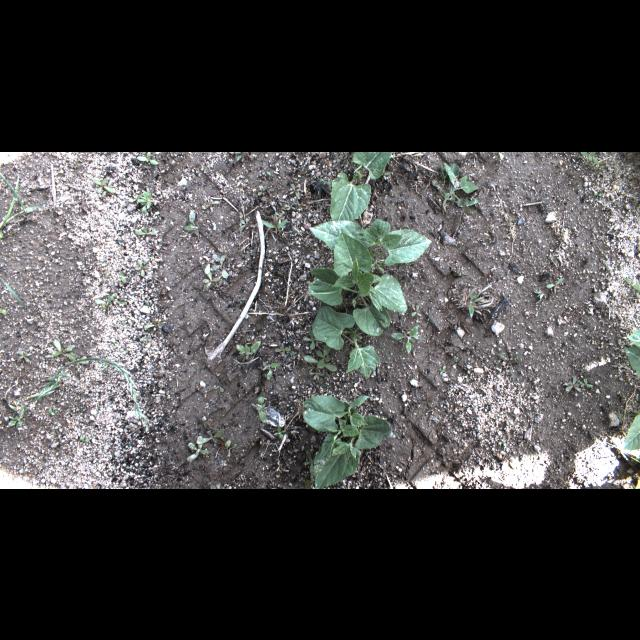crop: (303, 394, 392, 488), (310, 218, 432, 274), (308, 255, 389, 335), (334, 230, 408, 312), (312, 305, 380, 379), (330, 151, 392, 221), (620, 414, 640, 458), (622, 328, 638, 378)
weed: (9, 356, 150, 432), (432, 160, 480, 218), (0, 276, 40, 320), (0, 174, 26, 238), (0, 172, 40, 212), (390, 324, 418, 354), (185, 435, 209, 463), (303, 354, 337, 371), (138, 190, 162, 213), (52, 338, 78, 358), (236, 340, 262, 360), (209, 253, 229, 277), (92, 176, 116, 194), (316, 344, 332, 370), (194, 430, 223, 444), (262, 360, 282, 380), (261, 214, 287, 228), (470, 292, 484, 318), (134, 227, 158, 241), (8, 408, 24, 429), (203, 270, 219, 290), (610, 404, 626, 424), (304, 448, 316, 474), (184, 208, 198, 230), (135, 152, 159, 164), (564, 375, 580, 393), (94, 295, 114, 309), (68, 354, 88, 368), (274, 343, 294, 357), (544, 278, 564, 292), (304, 329, 318, 348), (256, 396, 266, 422), (135, 258, 149, 276), (580, 151, 598, 165), (200, 197, 220, 209), (499, 353, 523, 363), (236, 215, 250, 232), (623, 276, 639, 290), (144, 320, 166, 330), (532, 286, 544, 304), (203, 254, 213, 274), (272, 425, 286, 439), (288, 182, 300, 198), (101, 179, 112, 195), (112, 292, 126, 304), (128, 193, 144, 203), (43, 346, 55, 359), (225, 440, 238, 452), (256, 183, 268, 195), (410, 304, 422, 316), (17, 350, 31, 360), (234, 151, 248, 161), (580, 377, 594, 387), (308, 369, 322, 378), (319, 176, 331, 186), (306, 474, 314, 488), (48, 406, 58, 416), (138, 334, 152, 341), (118, 270, 126, 282), (144, 298, 152, 310), (306, 363, 316, 372), (438, 365, 446, 375), (78, 436, 90, 442), (286, 202, 294, 210), (498, 438, 506, 446), (117, 318, 127, 324), (210, 482, 220, 488), (294, 225, 300, 235), (99, 364, 107, 371), (0, 308, 6, 316), (274, 210, 282, 216), (594, 192, 602, 198), (104, 272, 108, 282), (636, 291, 640, 301), (383, 171, 391, 175), (228, 152, 240, 154), (265, 170, 271, 174), (454, 355, 458, 359)
